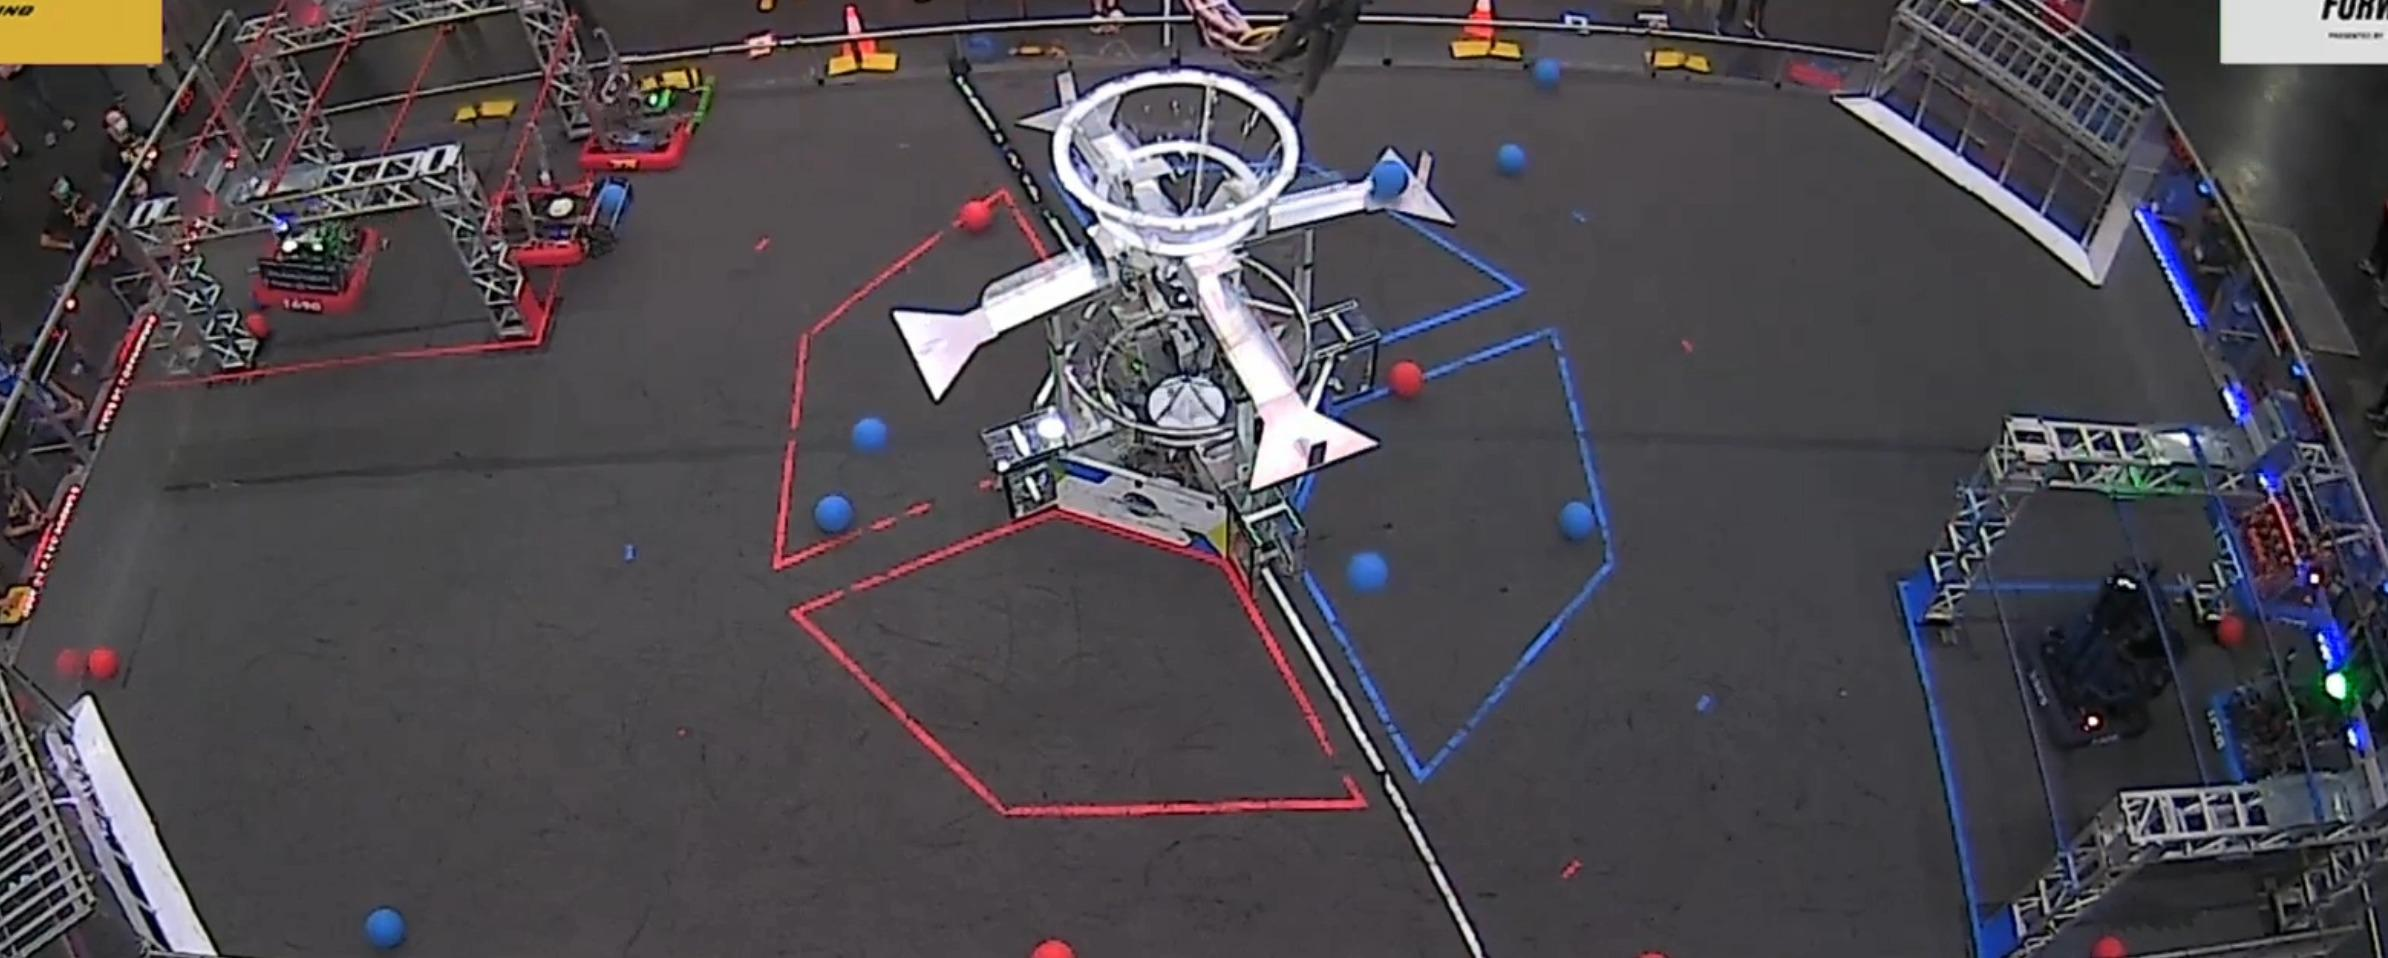Robots: (2053, 555, 2221, 770), (2232, 610, 2388, 790), (549, 11, 720, 173), (2210, 467, 2388, 616), (248, 192, 401, 334), (503, 180, 612, 268)
